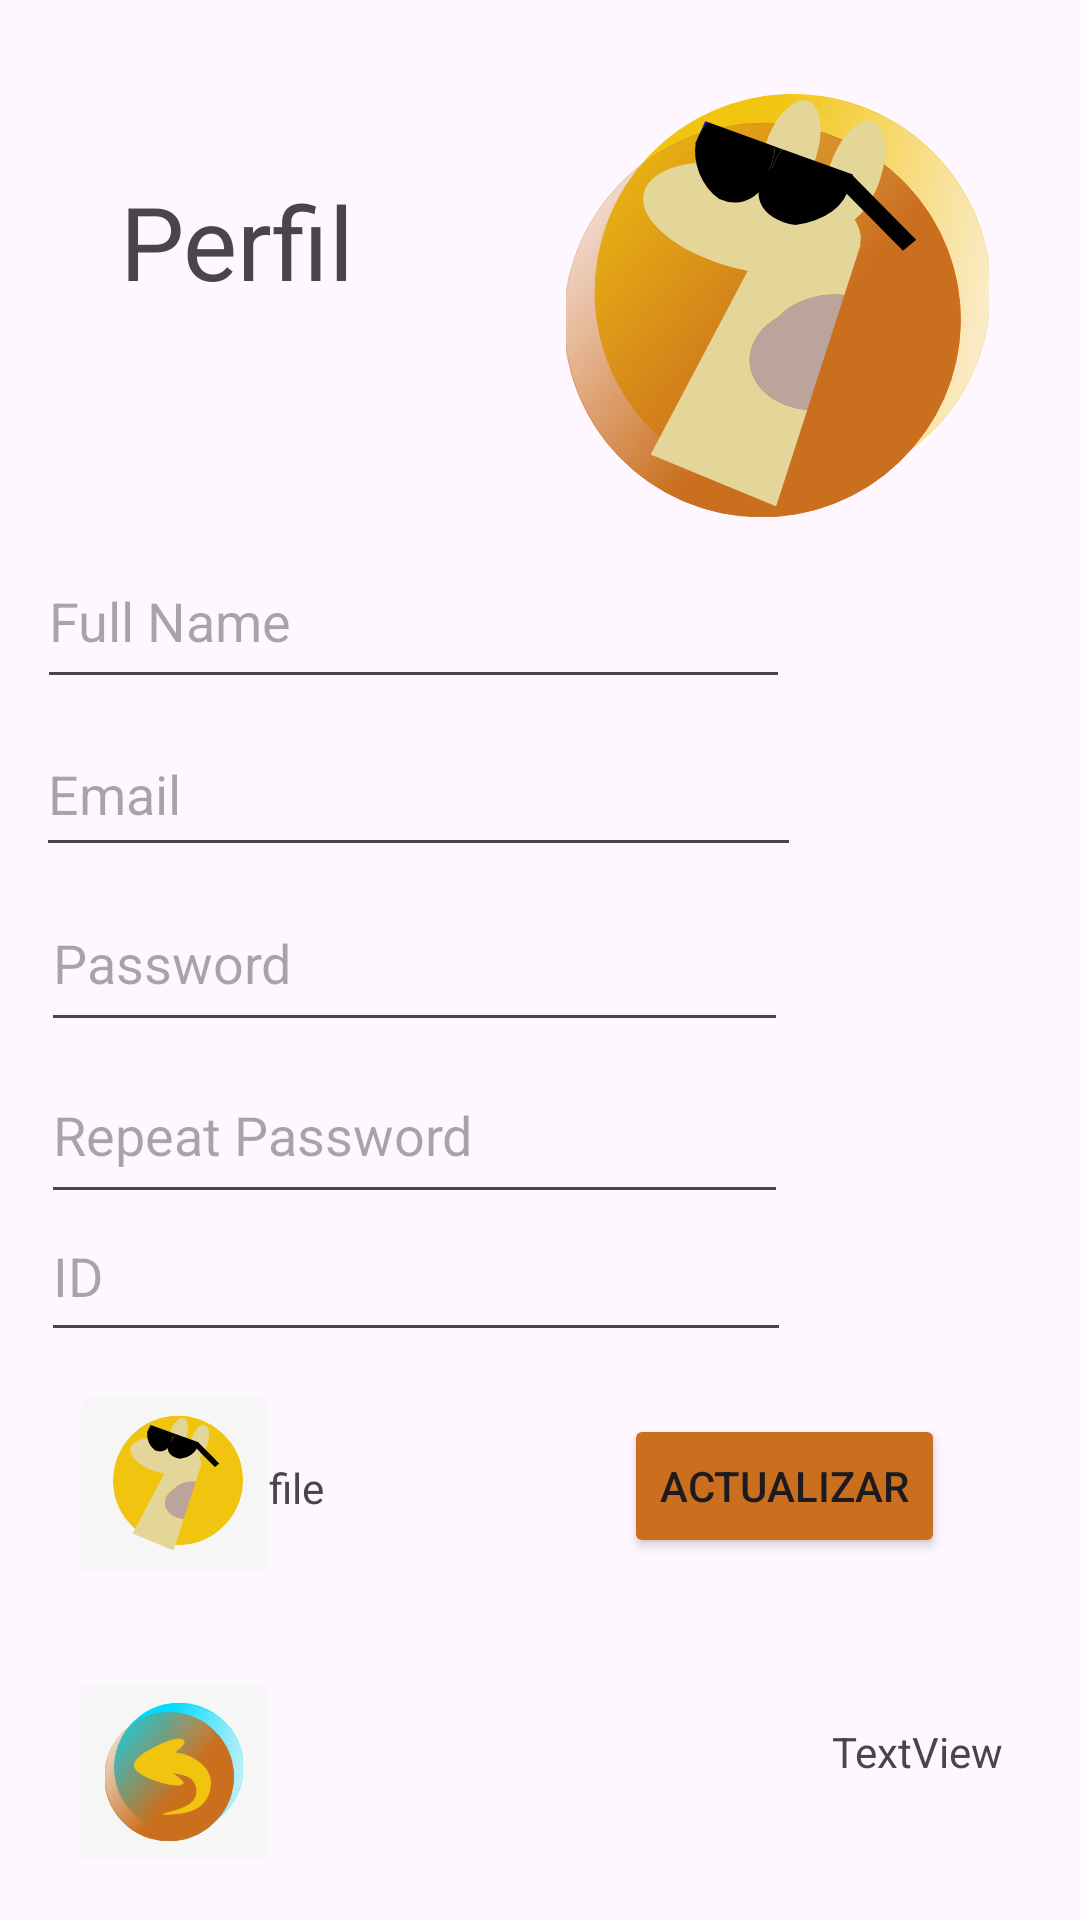

Icons on this 1080×1920 Android screen, each with the point to tap as (x=x, y=y):
bakcbutton: (x=174, y=1772)
